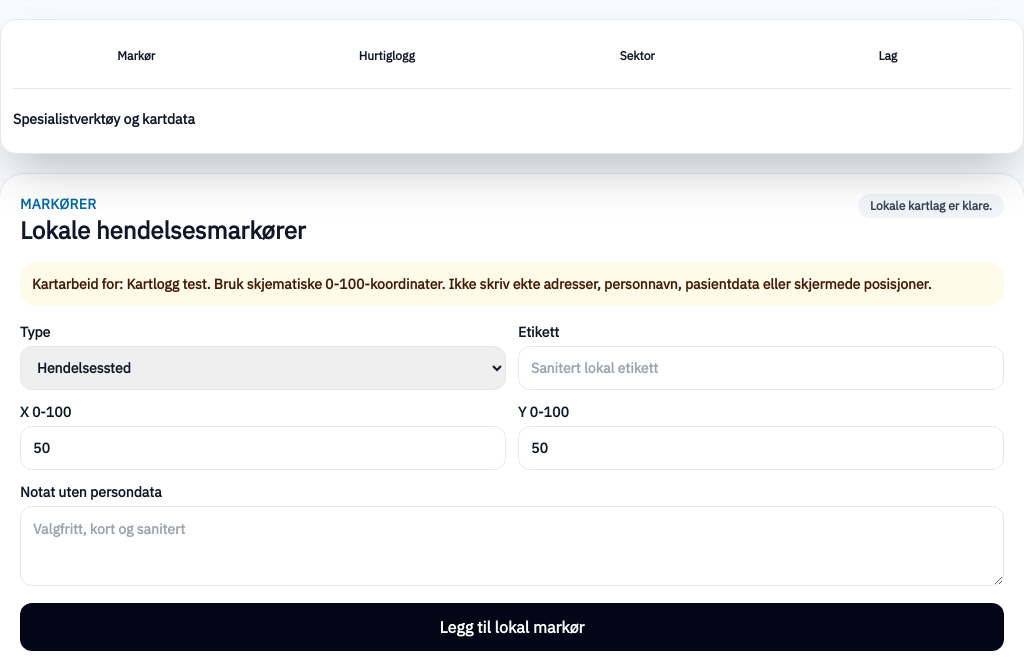
Test: creates a field-log entry on the active mission from a selected map marker
(page scrolled)
Select "Observasjon" in the dropdown named "Markørtype" at (263, 368), box [20,346,506,390]
Type "Observasjon nord" into the field with placeholder "Sanitert lokal etikett" at (761, 368), box [518,346,1004,390]
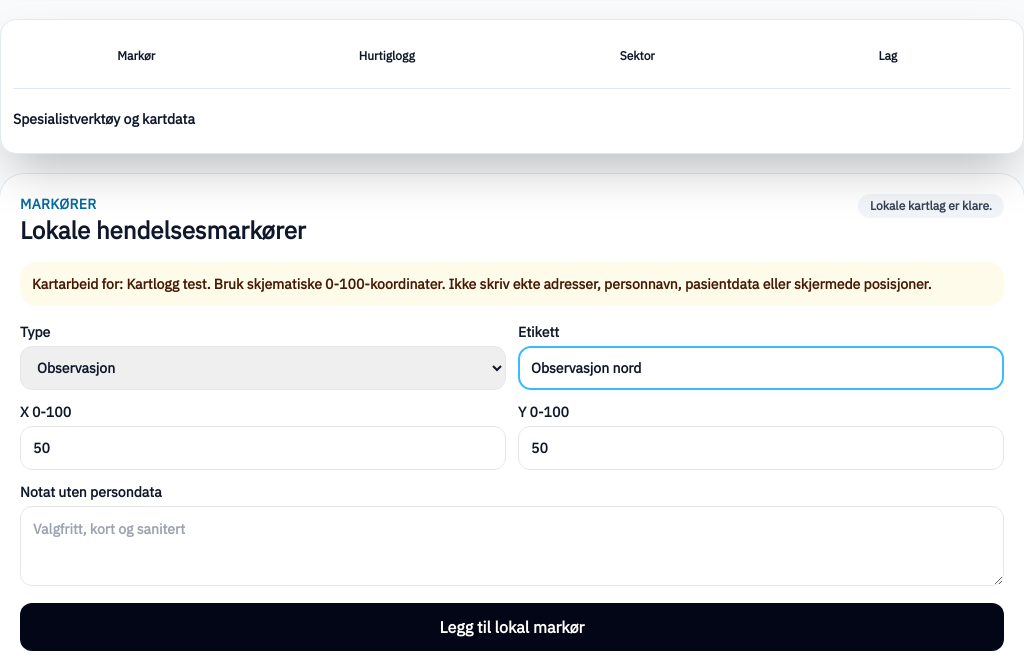
Replace the text in the number field labelled "X 0-100" with "22" at (263, 448), box [20,426,506,470]
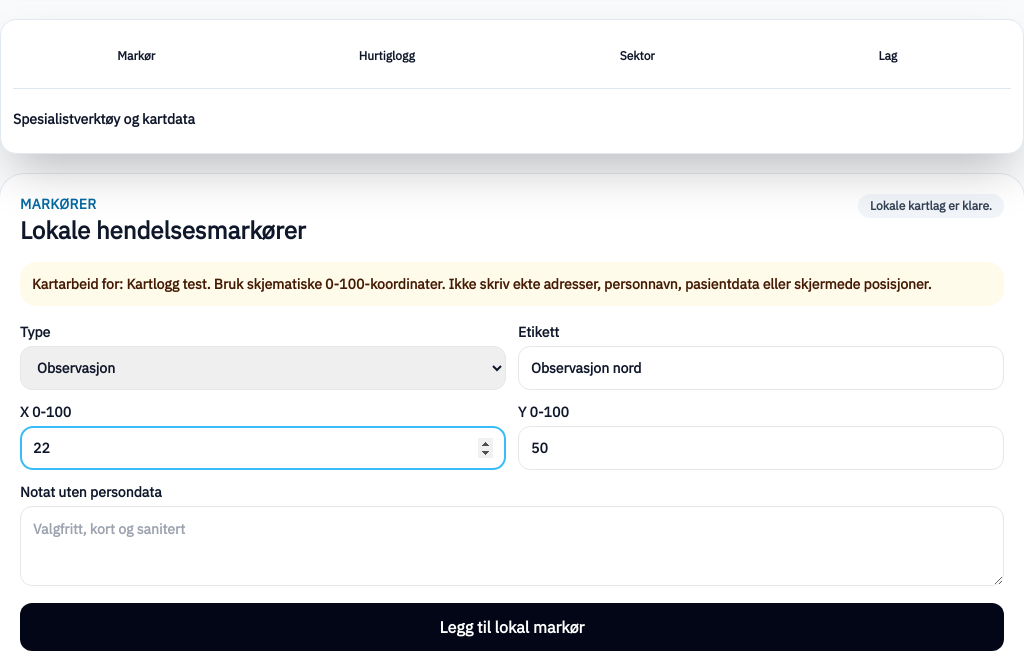
Replace the text in the number field labelled "Y 0-100" with "33" at (761, 448), box [518,426,1004,470]
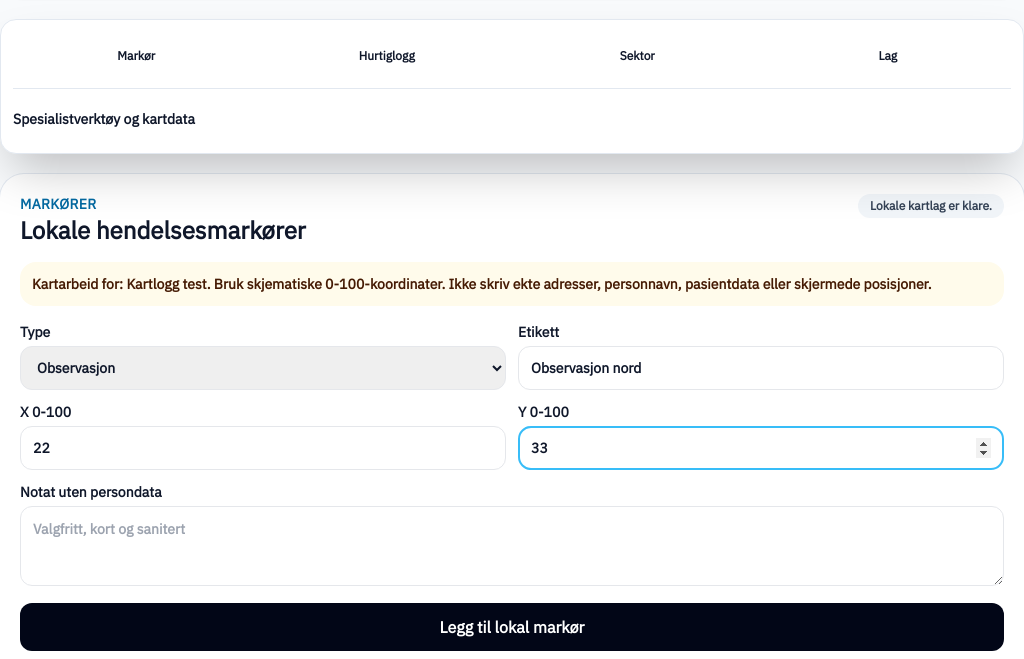
Click the button "Legg til lokal markør" at (512, 627), box [20,603,1004,651]
(page scrolled)
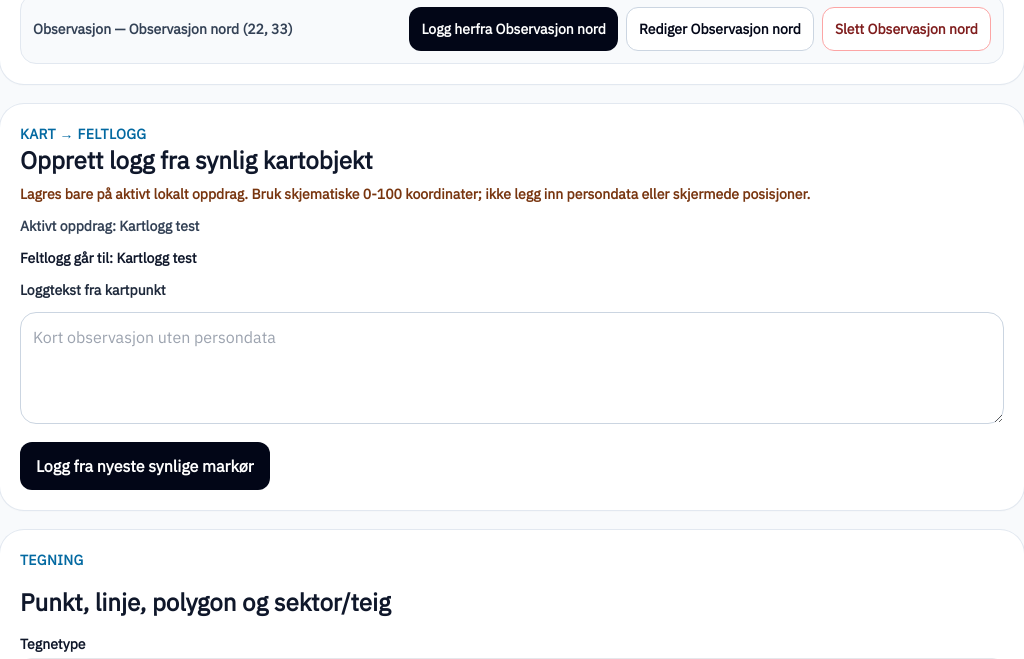
Type "Røyk observert uten persondata" into the text box labelled "Loggtekst fra kartpunkt" at (512, 368), box [20,312,1004,424]
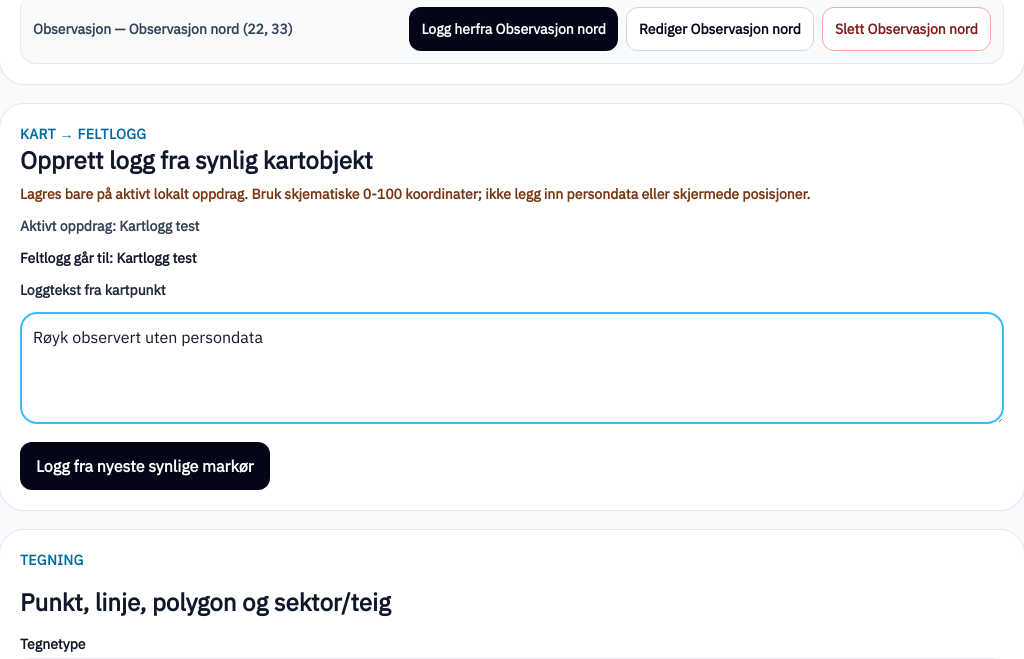
Click the button "Logg herfra Observasjon nord" at (514, 29), box [410,7,618,51]
(page scrolled)
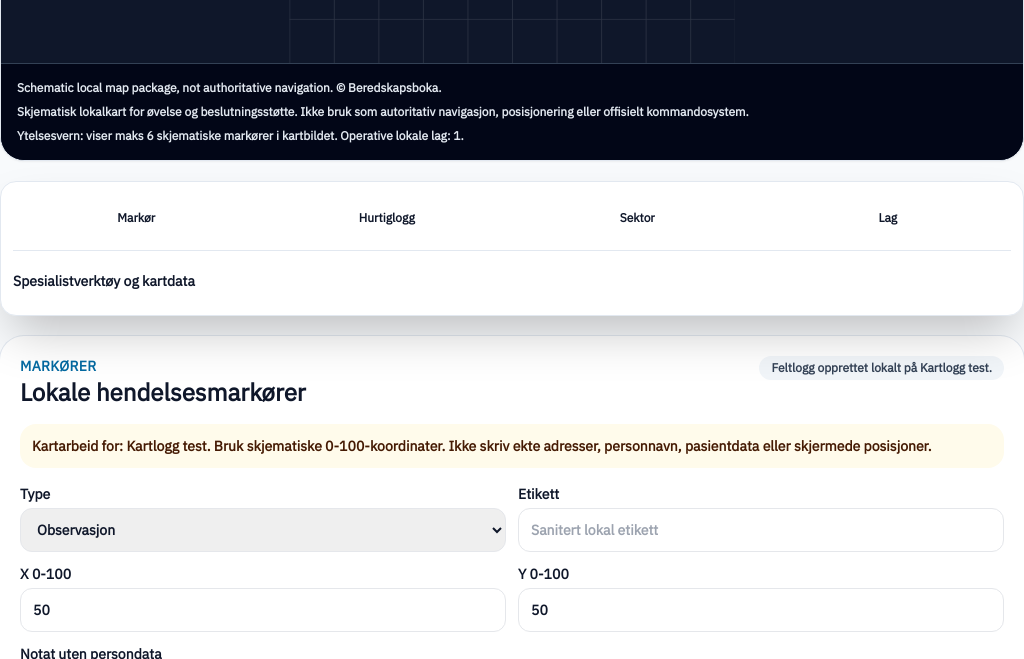
Expected: the text "Feltlogg opprettet lokalt på Kartlogg test." is shown, [760,356,1004,380]
